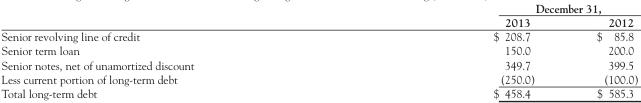table: (0, 0, 637, 99)
table column: (0, 0, 343, 99), (343, 0, 565, 99), (565, 0, 637, 99)
table column header: (0, 0, 637, 28)
table row: (0, 42, 637, 57), (0, 0, 637, 14), (0, 14, 637, 28), (0, 28, 637, 42), (0, 57, 637, 71), (0, 71, 637, 85), (0, 85, 637, 99)
table spanning cell: (343, 0, 637, 14)
